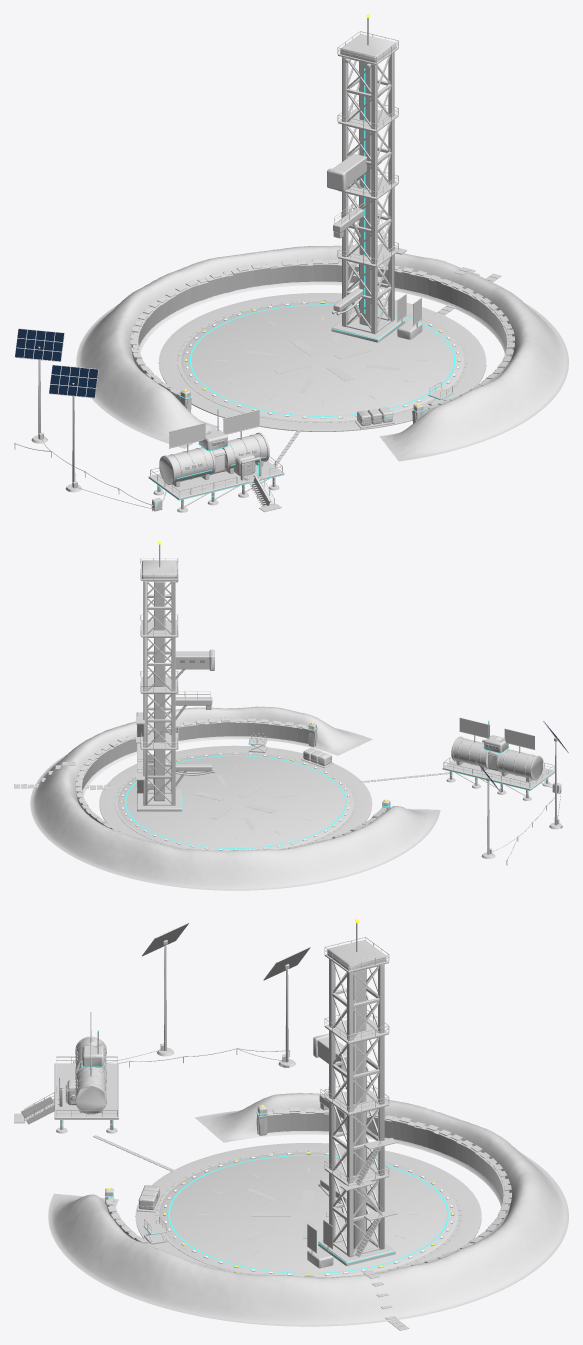
Rendered from launch_pad_game.glb.
The picture shows the model from 3 angles, top to bottom: view 1: azimuth 30°, elevation 25°; view 2: azimuth 150°, elevation 25°; view 3: azimuth 270°, elevation 25°; orthographic projection. The views are drawn at different scales.
Visible parts, largest first — view 1: launch_pad_game; view 2: launch_pad_game; view 3: launch_pad_game.
Boxes of the visible parts, x1,y1,x2,y2 form: launch_pad_game: (14, 14, 568, 512); launch_pad_game: (14, 541, 568, 890); launch_pad_game: (14, 919, 568, 1330).
Bounding box in the file's own units: 95.41 × 52.1 × 77.59.
